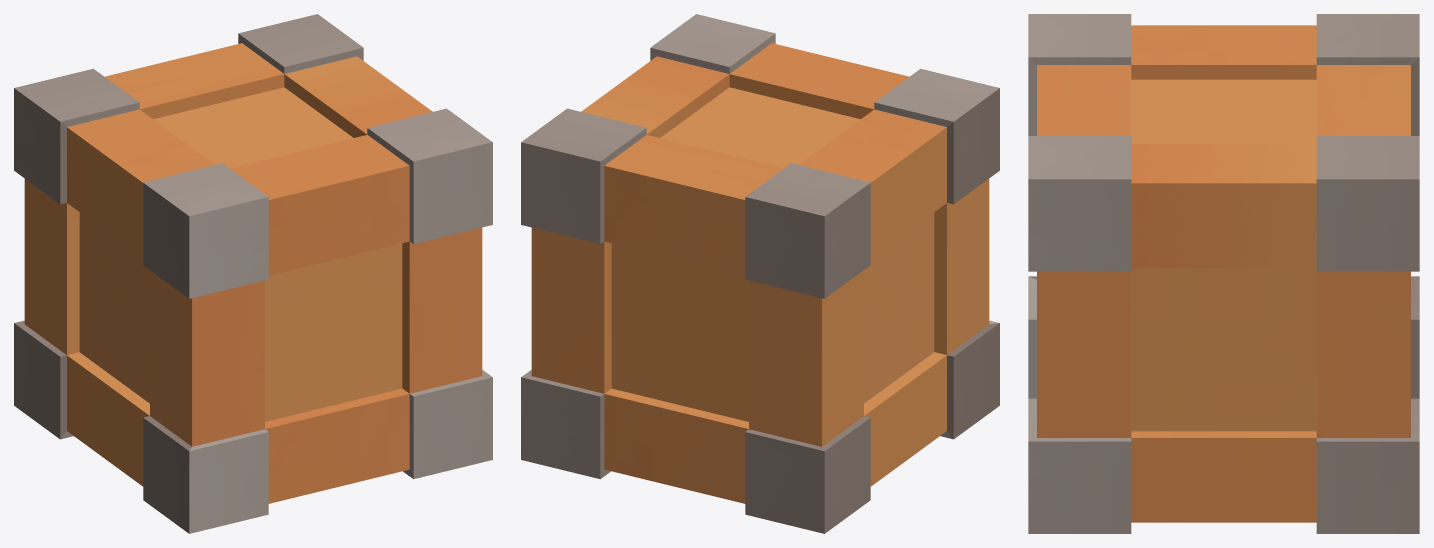
File: crate2.fbx
The picture shows the model from 3 angles, left to right: view 1: azimuth 30°, elevation 25°; view 2: azimuth 150°, elevation 25°; view 3: azimuth 270°, elevation 25°; orthographic projection. The views are drawn at different scales.
Parts seen in each view (by area): view 1: Cube; view 2: Cube; view 3: Cube.
Boxes of the visible parts, bbox=[...] form: Cube: bbox=[14, 14, 492, 533]; Cube: bbox=[521, 14, 999, 533]; Cube: bbox=[1028, 14, 1419, 533].
Bounding box in the file's own units: 104 × 104 × 104.
